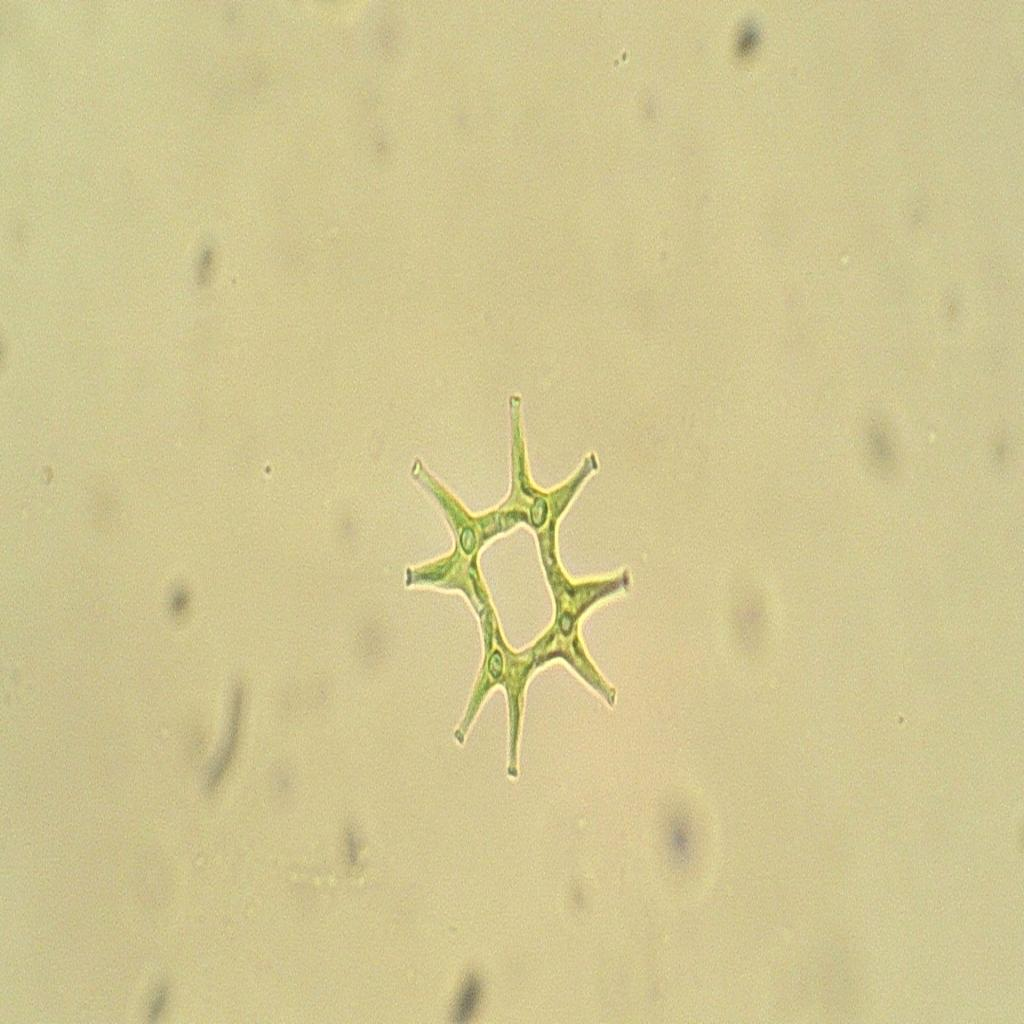Pediastrum_10: (382, 380, 650, 800)
